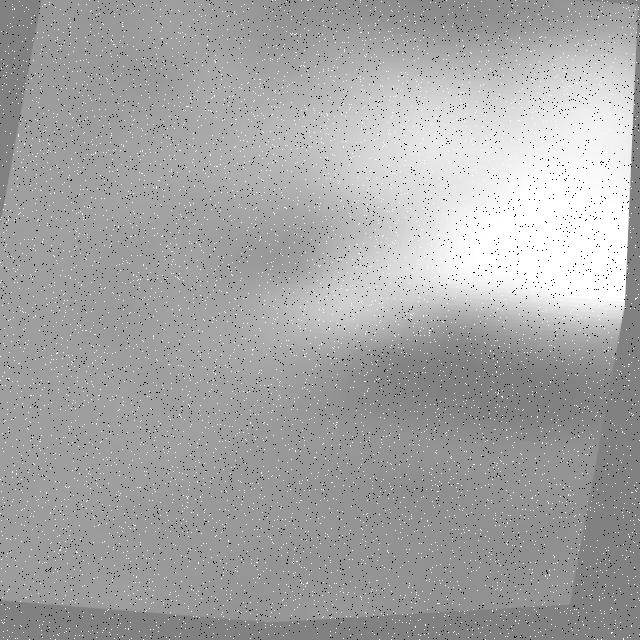person: (160, 1, 640, 365)
